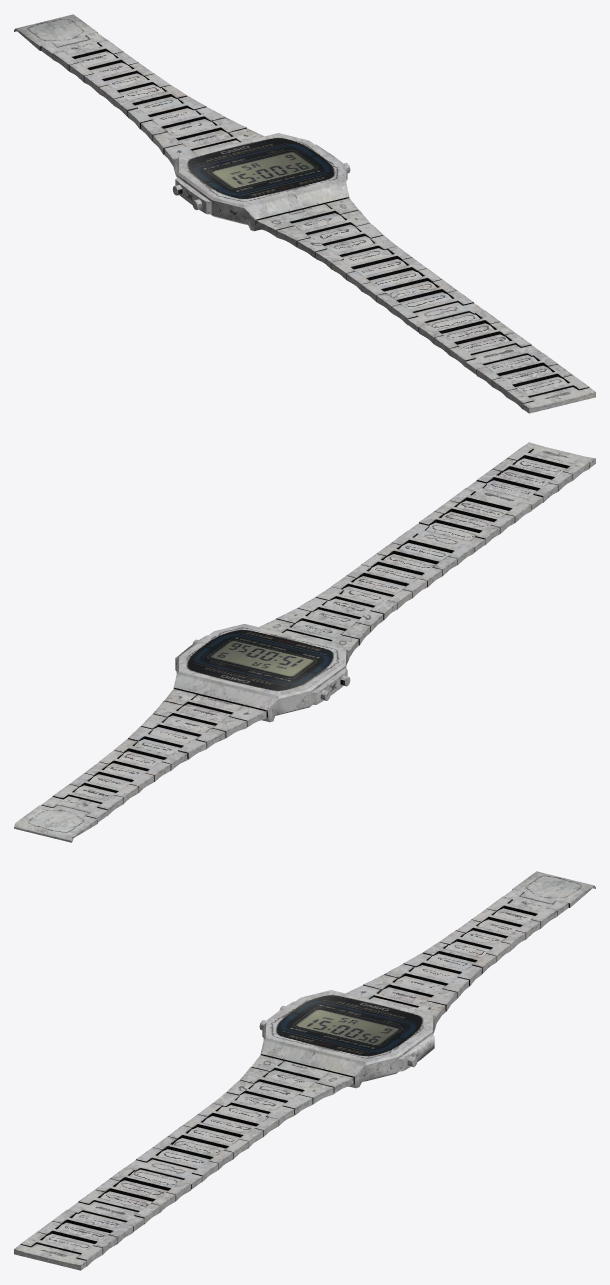
Rendered from hora.gltf.
The picture shows the model from 3 angles, top to bottom: view 1: azimuth 30°, elevation 25°; view 2: azimuth 150°, elevation 25°; view 3: azimuth 330°, elevation 25°; orthographic projection.
Visible parts, largest first — view 1: Mesh_0.008; view 2: Mesh_0.008; view 3: Mesh_0.008.
Part boxes in pixels (box(x1,y1,x2,y2)): Mesh_0.008: box(14, 14, 595, 413); Mesh_0.008: box(14, 442, 595, 842); Mesh_0.008: box(14, 871, 595, 1270).
Size of the model in its own units: 5.49 by 0.7869 by 32.3.
1 material, 1 textured.
